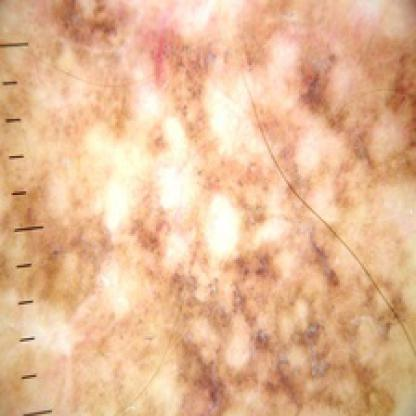malignant: (43, 6, 388, 403)
